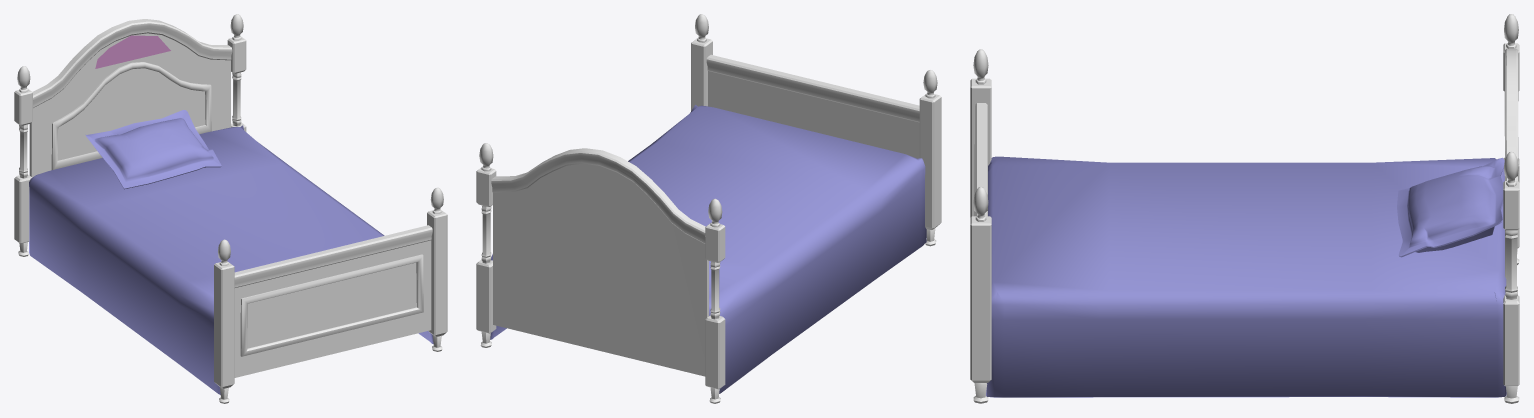
The model's file is JMBD801.FBX.
3 renders of one model, left to right at view 1: azimuth 30°, elevation 25°; view 2: azimuth 150°, elevation 25°; view 3: azimuth 270°, elevation 25°, orthographic. The views are drawn at different scales.
Parts seen in each view (by area): view 1: JMBD801; view 2: JMBD801; view 3: JMBD801.
Boxes of the visible parts, left/top/right/bottom form: JMBD801: left=14, top=14, right=447, bottom=403; JMBD801: left=476, top=14, right=941, bottom=403; JMBD801: left=970, top=14, right=1519, bottom=403.
Bounding box in the file's own units: 111 × 96.5 × 176.
